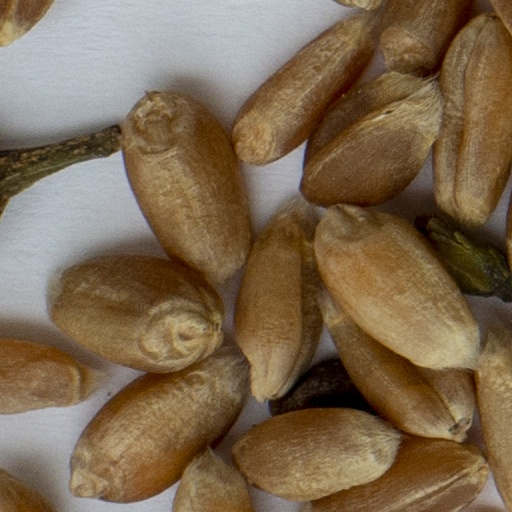Peel-poly: (0, 127, 121, 224), (418, 214, 511, 300)
Wheat-grain-poly: (325, 289, 473, 438), (233, 406, 399, 500), (298, 440, 485, 511), (476, 318, 511, 511), (175, 450, 251, 511)
